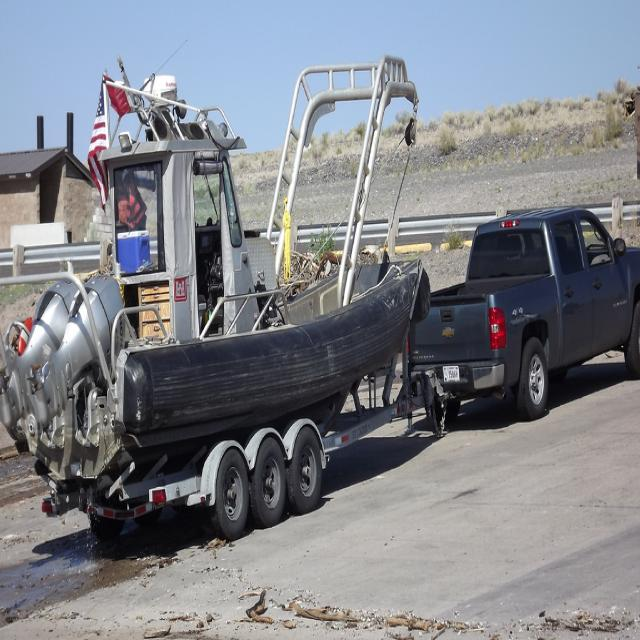Boat: (0, 34, 431, 478)
